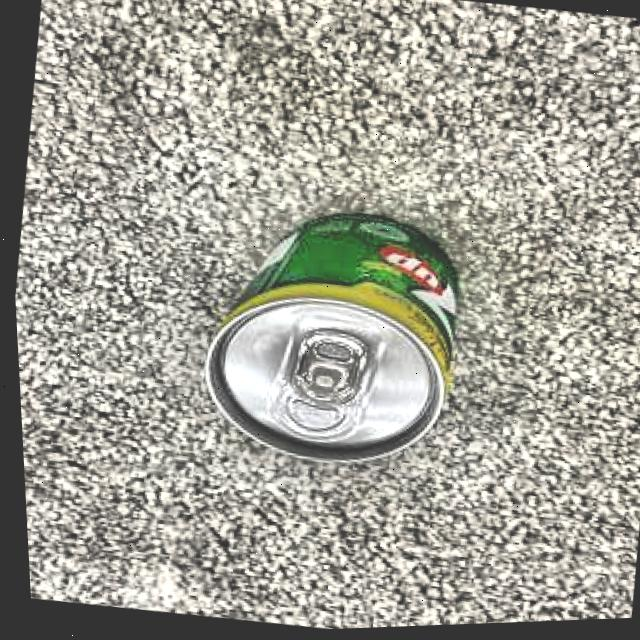metal: (202, 208, 466, 472)
